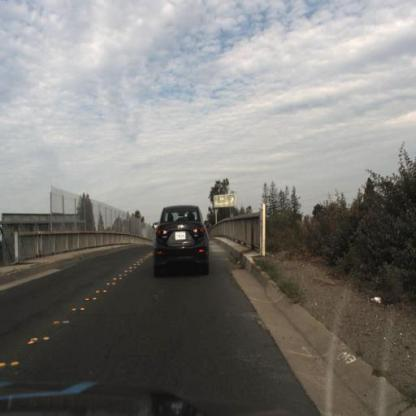car: (148, 194, 217, 290)
